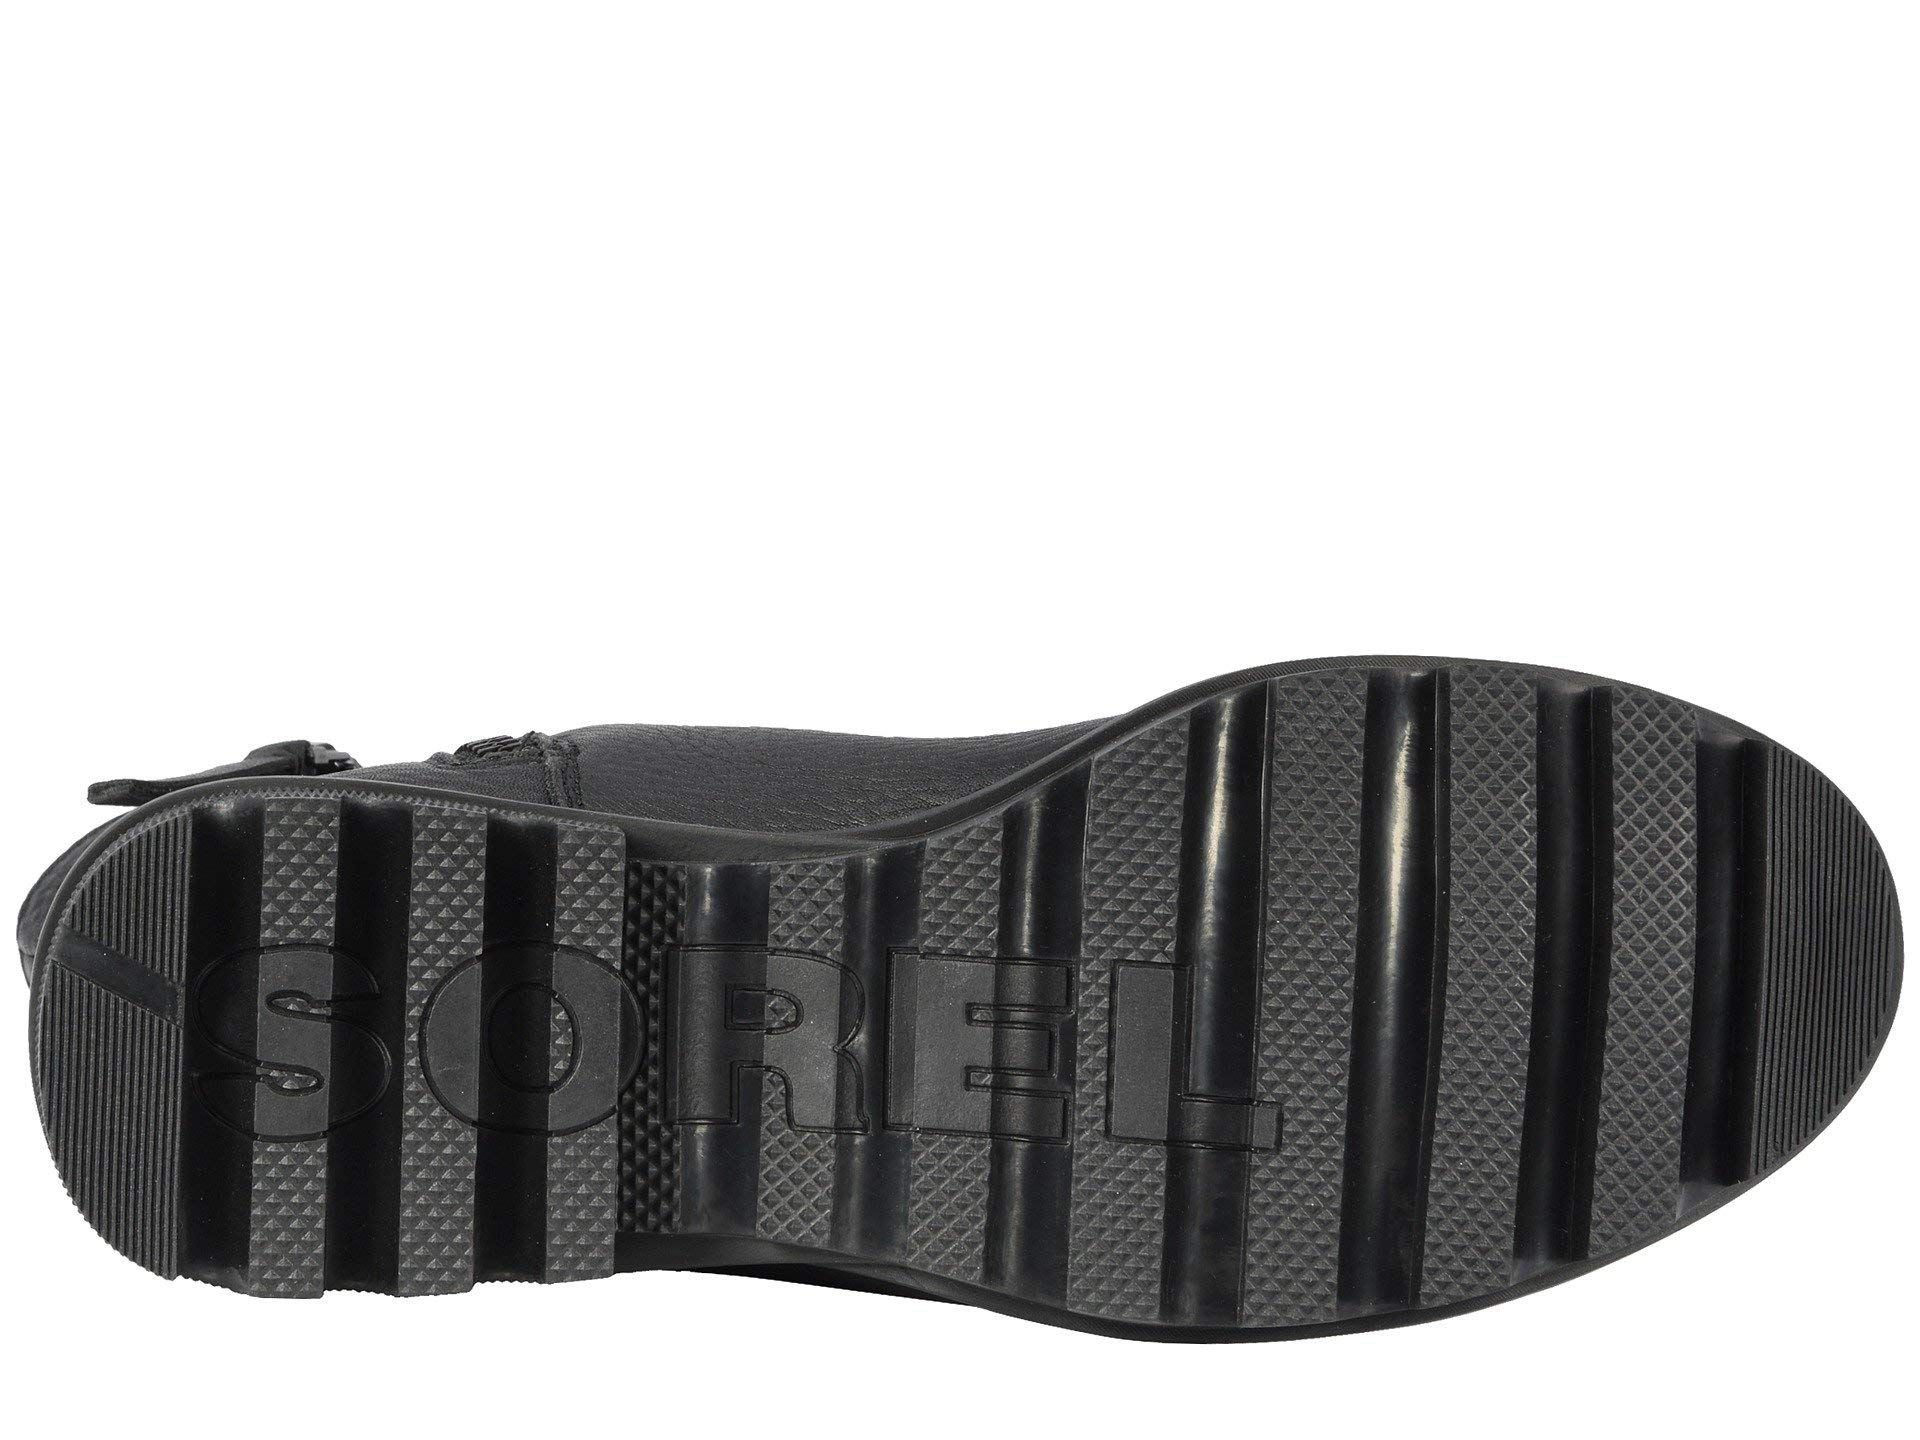circle: (160, 864, 1373, 1240)
line: (1757, 788, 1864, 1072), (57, 902, 154, 1195)
quad: (160, 864, 1373, 1240)
text: (160, 864, 1373, 1240)
